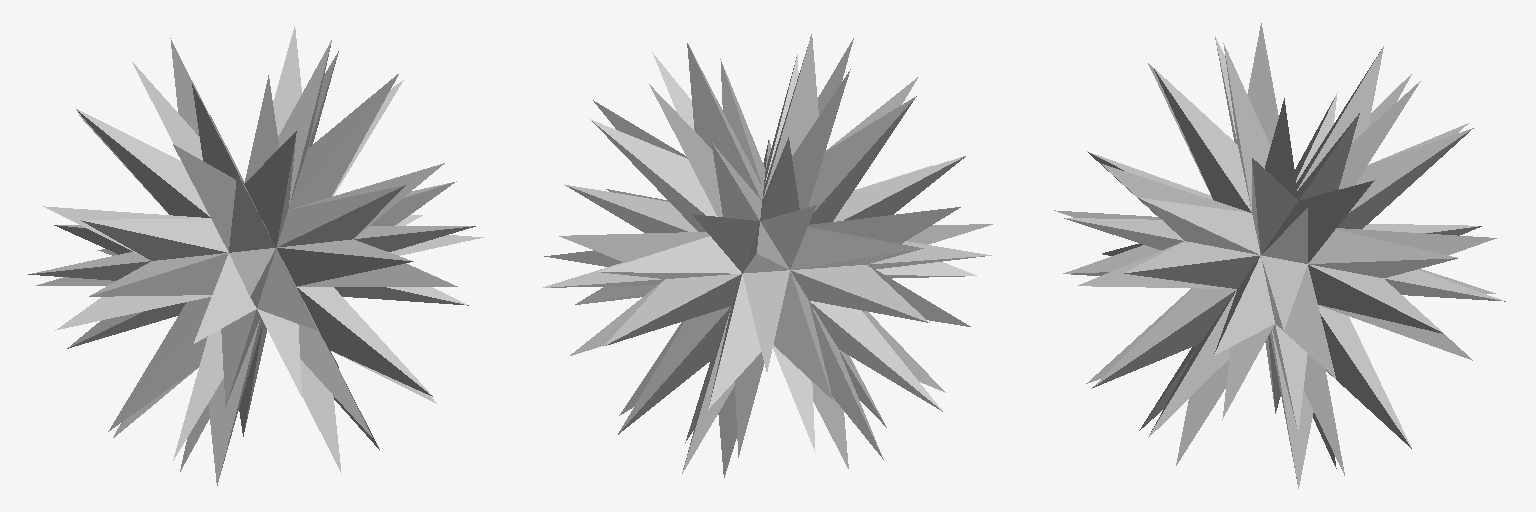
File: Echidnahedron.obj
The picture shows the model from 3 angles: view 1: azimuth 30°, elevation 25°; view 2: azimuth 150°, elevation 25°; view 3: azimuth 270°, elevation 25°; orthographic projection.
Parts seen in each view (by area): view 1: Echidnahedron; view 2: Echidnahedron; view 3: Echidnahedron.
Boxes of the visible parts, <box> form: Echidnahedron: <box>28,26,483,485</box>; Echidnahedron: <box>543,34,992,477</box>; Echidnahedron: <box>1054,23,1505,488</box>.
Bounding box in the file's own units: 7.32 × 7.13 × 7.1.